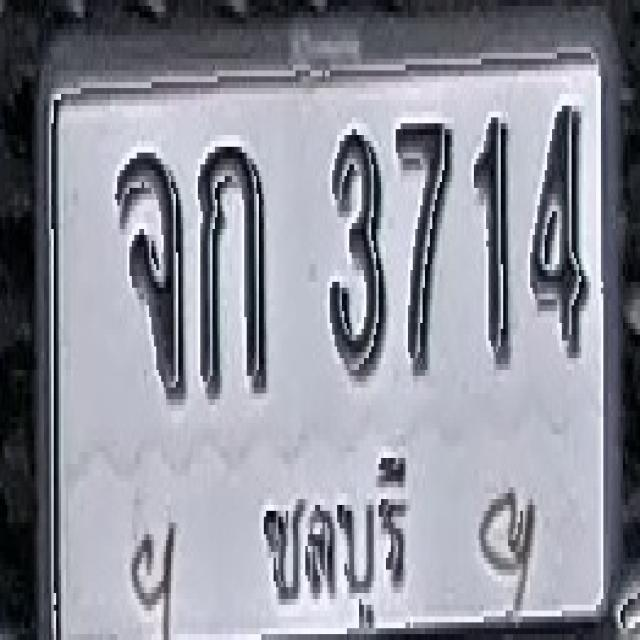-: (114, 147, 186, 399), (198, 141, 266, 393)
1: (474, 114, 510, 367)
3: (330, 126, 386, 379)
4: (530, 103, 586, 355)
7: (396, 117, 452, 376)
CBI: (254, 437, 425, 640)
